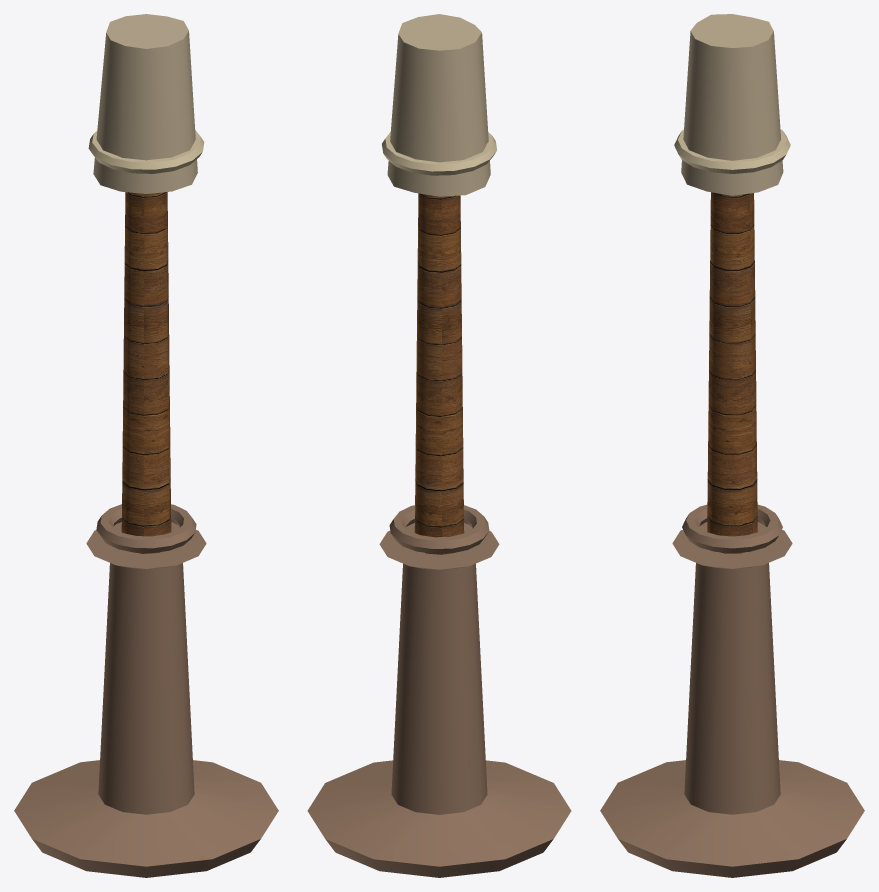
Rendered from unlit-torch-v01.glb.
3 renders of one model, left to right at view 1: azimuth 30°, elevation 25°; view 2: azimuth 150°, elevation 25°; view 3: azimuth 270°, elevation 25°, orthographic.
Visible parts, largest first — view 1: unlit-torch; view 2: unlit-torch; view 3: unlit-torch.
Boxes of the visible parts, x1,y1,x2,y2 form: unlit-torch: (14, 14, 278, 877); unlit-torch: (307, 14, 571, 877); unlit-torch: (600, 14, 864, 877).
Size of the model in its own units: 0.44 by 1.46 by 0.44.
Materials: 4 (1 with a texture image).
